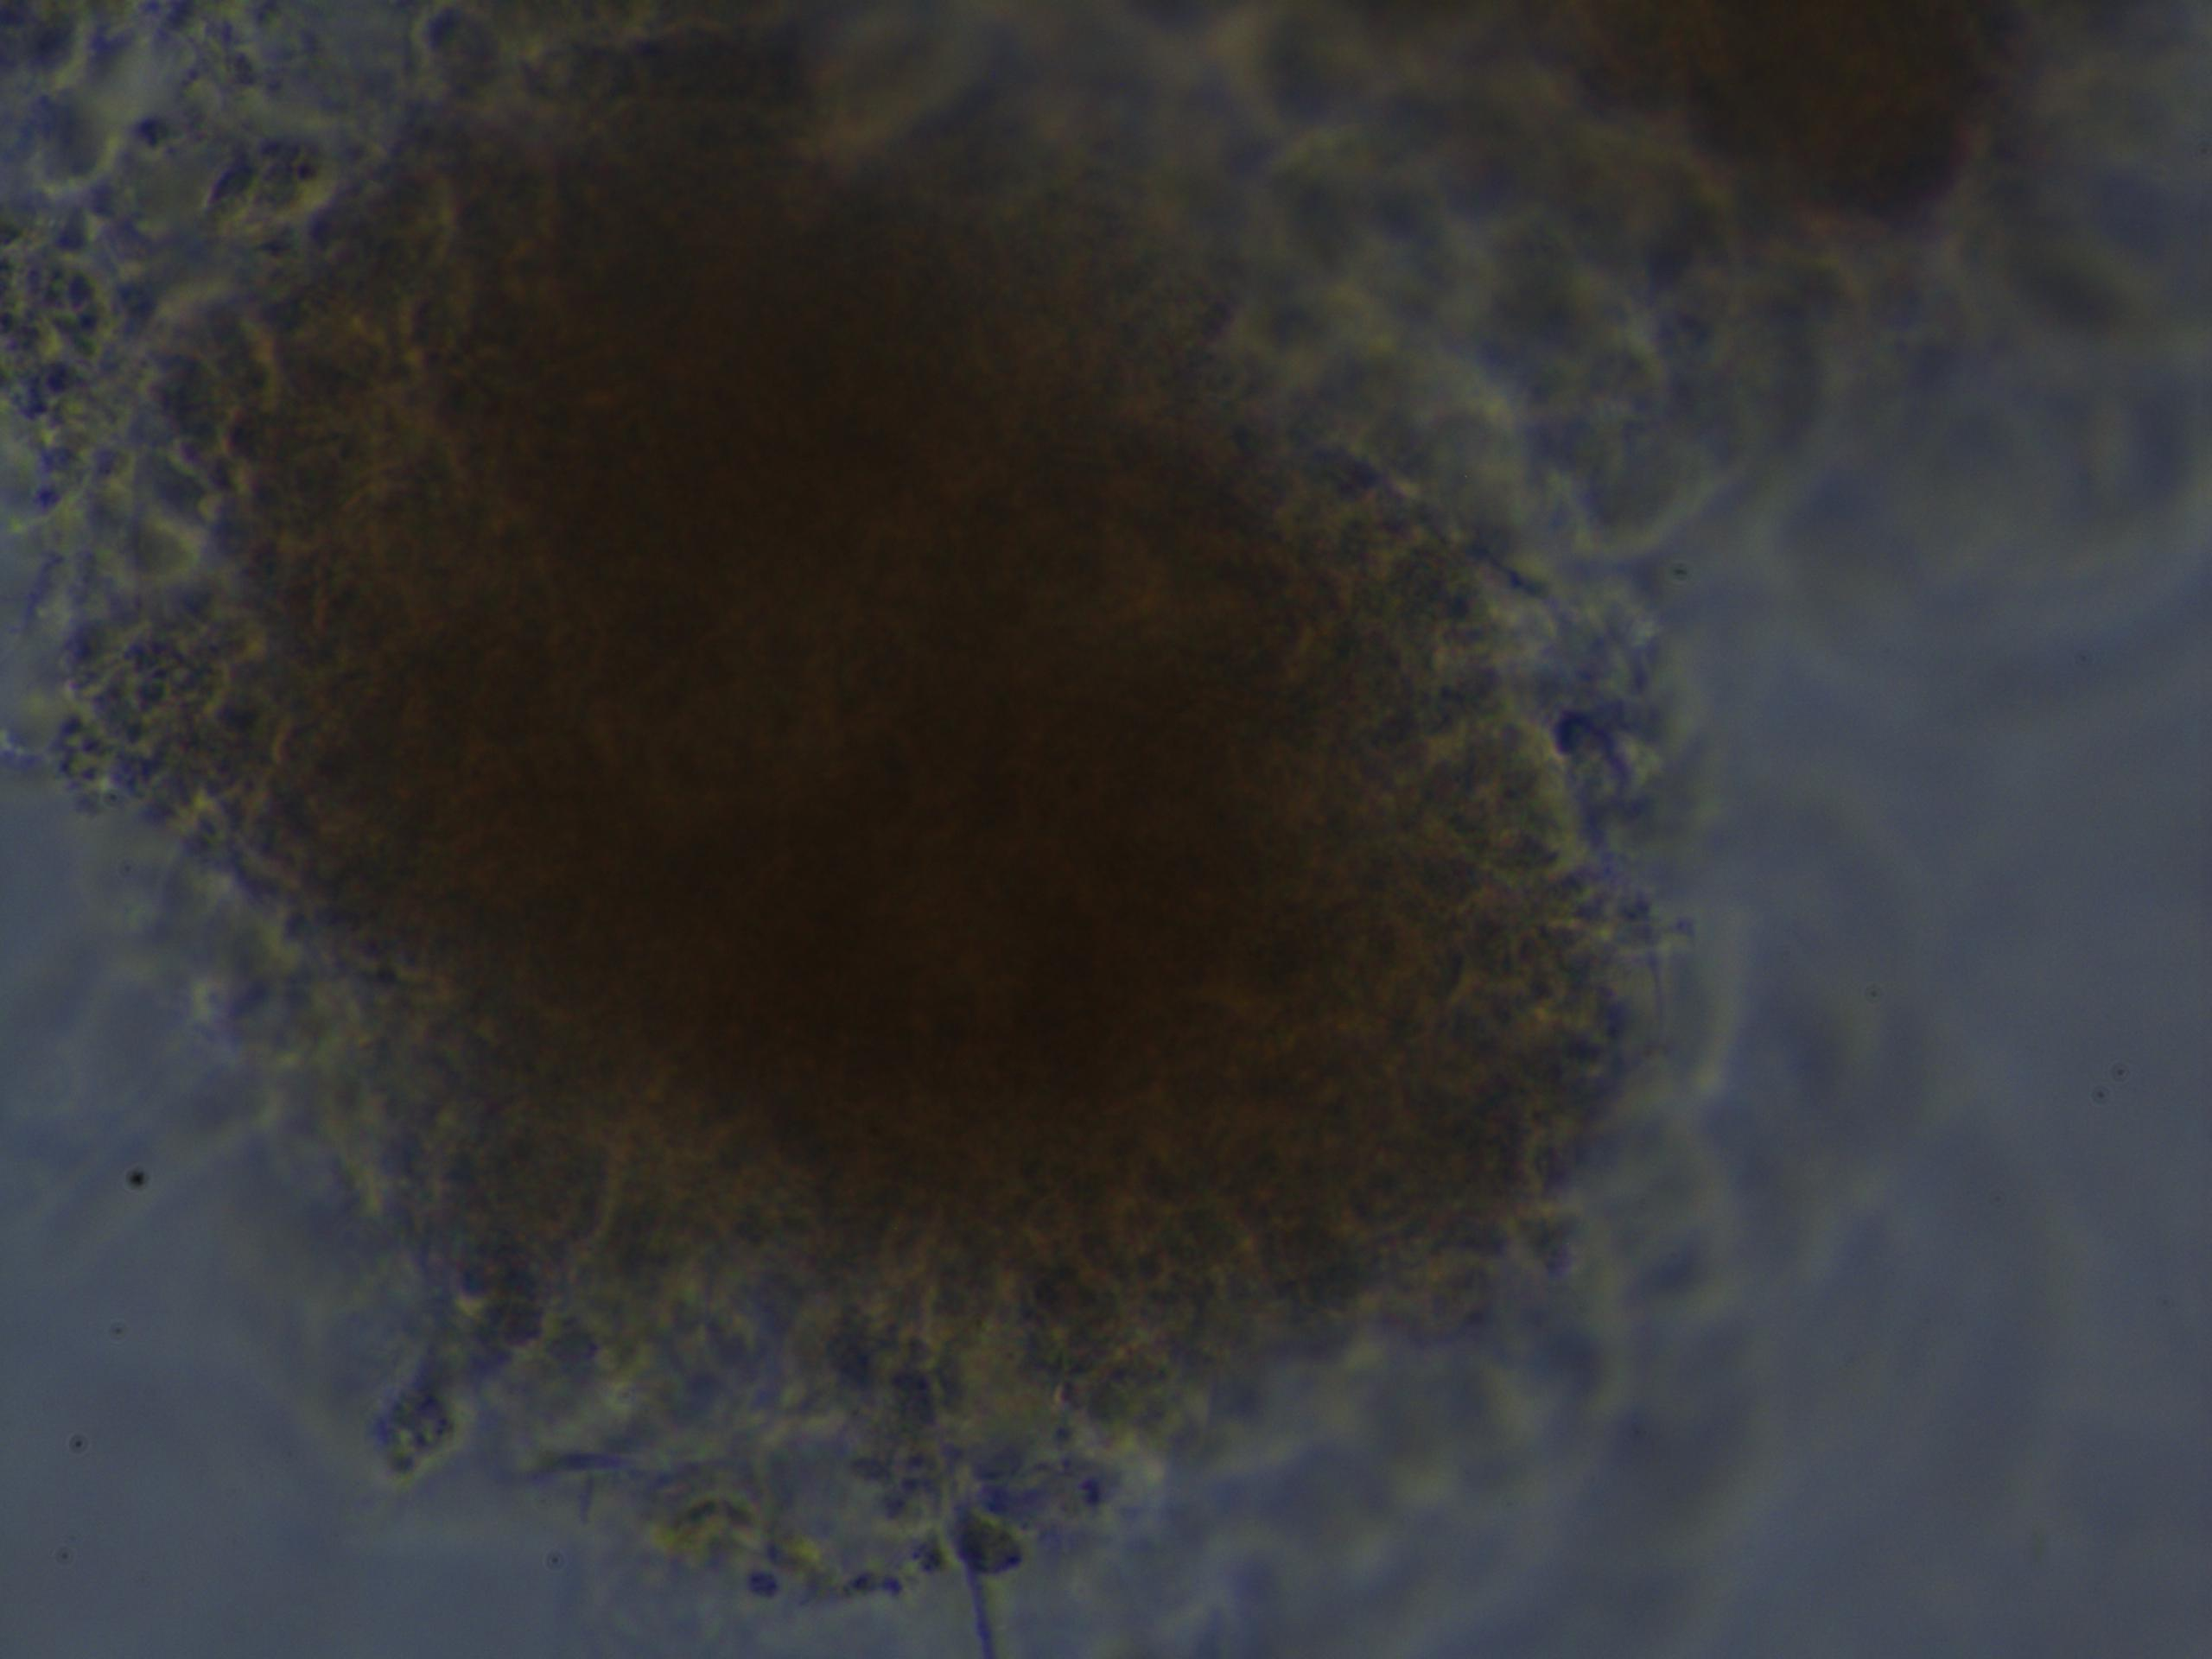spherical_floc: (101, 0, 1688, 1459)
